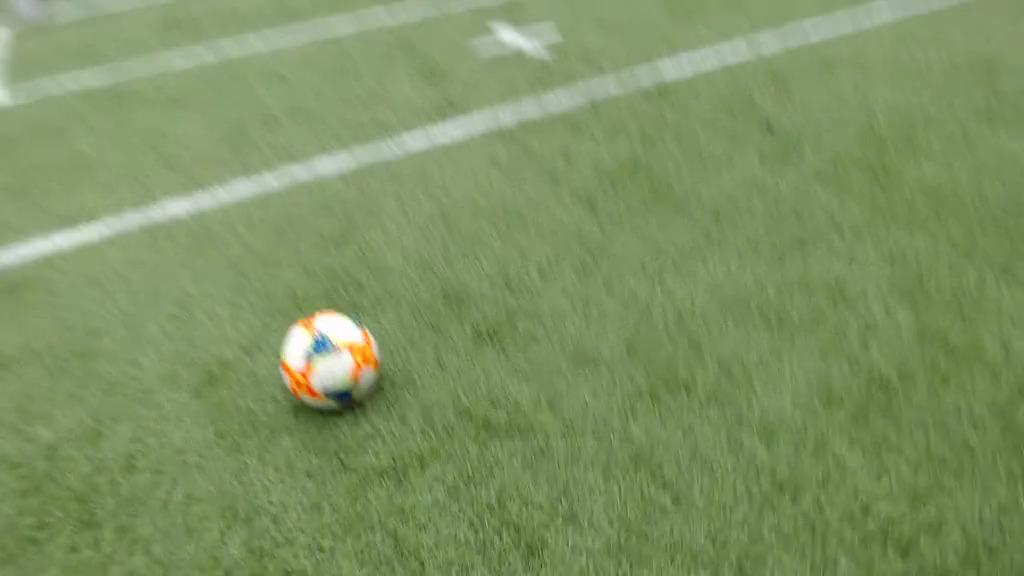ball: (266, 294, 396, 423)
